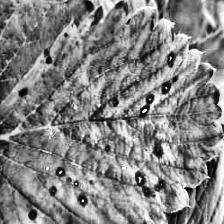Leaf Spot: (0, 0, 224, 224), (0, 0, 108, 134)
